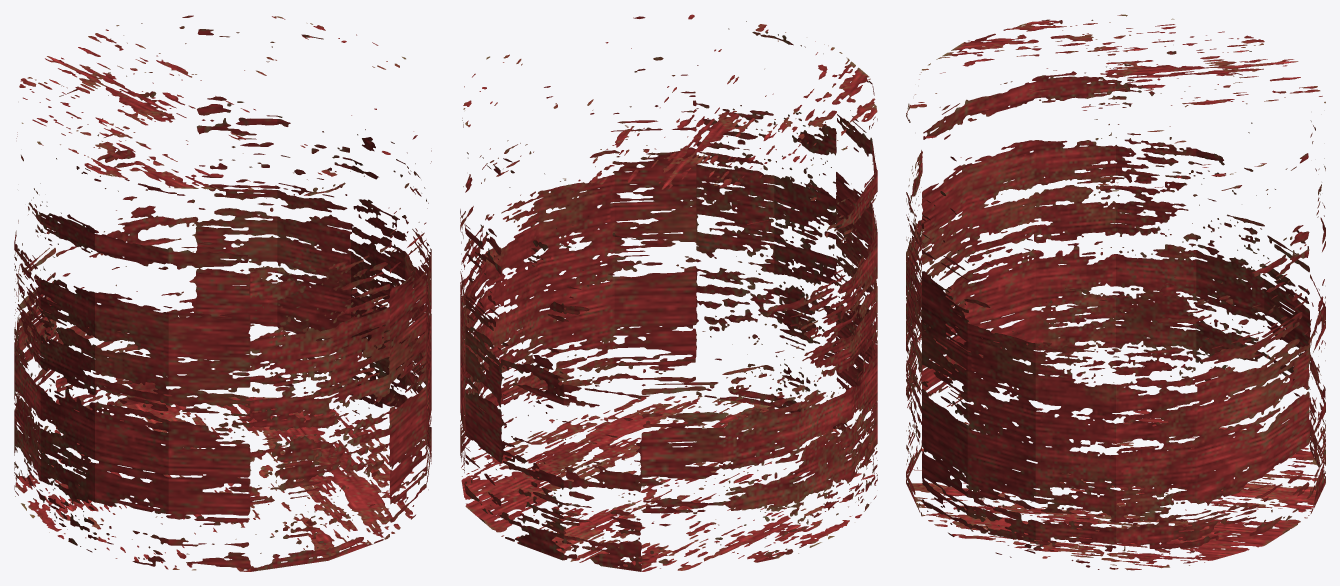
The model's file is Carryon.obj.
The picture shows the model from 3 angles, left to right: view 1: azimuth 30°, elevation 25°; view 2: azimuth 150°, elevation 25°; view 3: azimuth 270°, elevation 25°; orthographic projection.
Parts seen in each view (by area): view 1: Carryon; view 2: Carryon; view 3: Carryon.
Part boxes in pixels (x1,y1,x2,y2): Carryon: [14, 15, 431, 571]; Carryon: [460, 14, 877, 571]; Carryon: [906, 14, 1325, 570].
Bounding box in the file's own units: 5.48 × 5.48 × 5.48.
